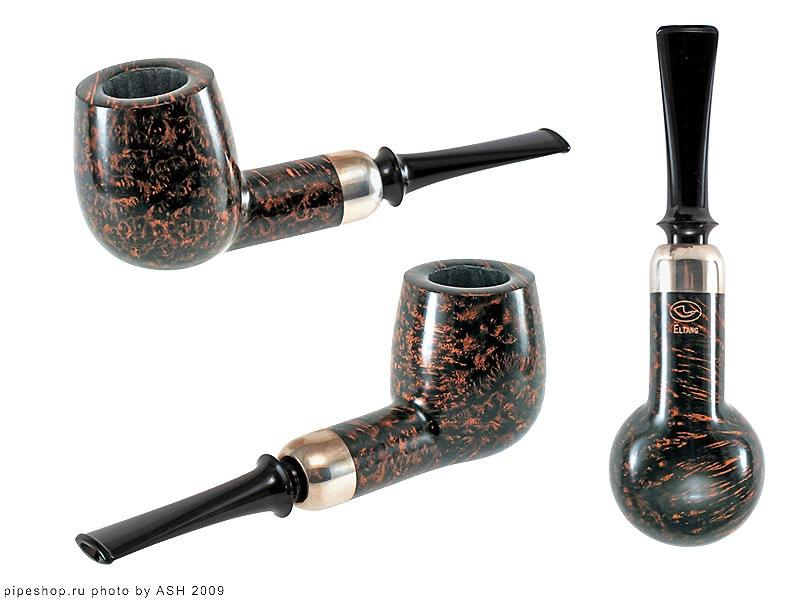trubka: (76, 260, 544, 563), (75, 59, 569, 268), (610, 25, 763, 544)
